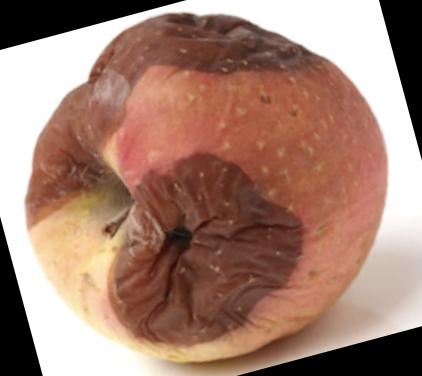Apple: (15, 11, 389, 365)
